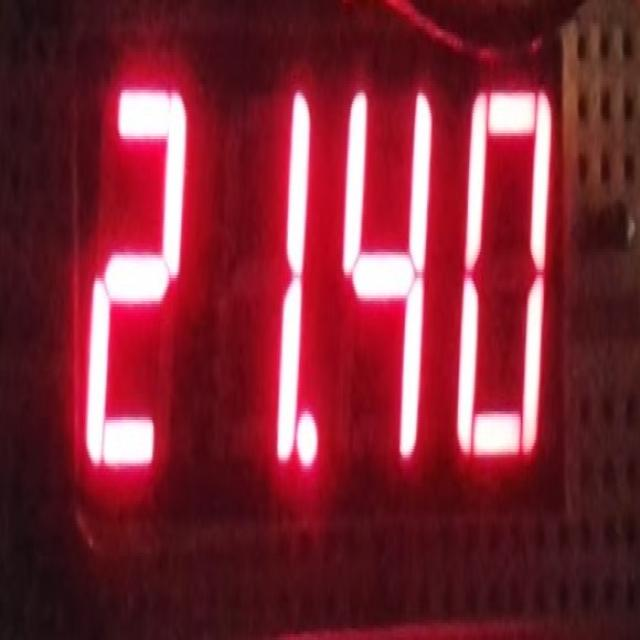.: (294, 410, 320, 474)
0: (454, 87, 554, 452)
1: (272, 71, 318, 467)
2: (81, 79, 192, 482)
4: (342, 78, 434, 461)
